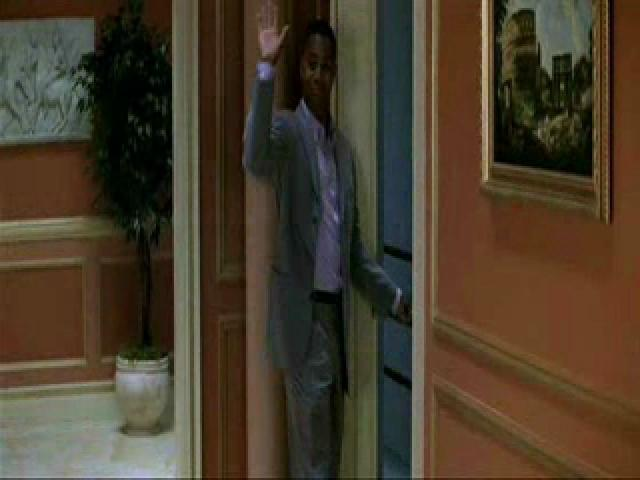T: (231, 2, 415, 474)
